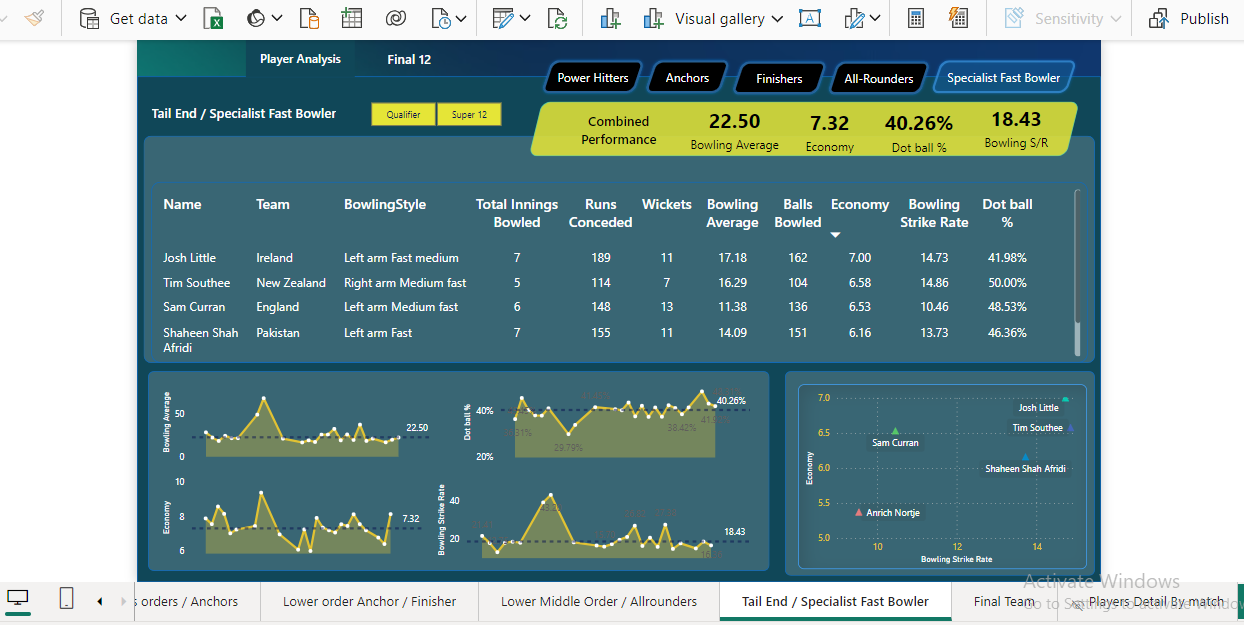

Layout of this report page (visuals, bound fields, positions):
{"tool":"powerbi","page":{"name":"Tail End / Specialist Fast Bowler","canvas":[1280,720],"ordinal":4},"visuals":[{"type":"shape","box":[0,48.5,1279.5,671.5],"z":0},{"type":"shape","box":[32.5,74.8,204.9,43.9],"z":1000},{"type":"actionButton","box":[144.7,0,144.7,48.8],"z":2000},{"type":"actionButton","box":[289.4,0,144.7,48.8],"z":3000},{"type":"actionButton","box":[562.5,22.8,144.7,52],"z":4000},{"type":"actionButton","box":[698.7,22.8,120.3,52],"z":5000},{"type":"actionButton","box":[810.5,22.8,134.9,52],"z":6000},{"type":"actionButton","box":[936.9,22.8,144.7,52],"z":7000},{"type":"actionButton","box":[1073.1,22.8,188.6,52],"z":8000},{"type":"slicer","fields":{"Values":["dim_match_summary.stage"]},"box":[285,76.7,223.3,45],"z":9000},{"type":"shape","box":[8.3,126.7,1263.3,301.7],"z":10000},{"type":"shape","box":[15,440,825,265],"z":11000},{"type":"shape","box":[860,440,411.7,271.7],"z":12000},{"type":"scatterChart","title":"Economy vs Bowling S/R","fields":{"Category":["dim_players.name"],"Series":["dim_players.name"],"Y":["key_measures.Economy"],"X":["key_measures.Bowling Strike Rate"]},"box":[878.3,456.7,383.3,245],"z":13000},{"type":"tableEx","fields":{"Values":["dim_players.name","dim_players.team","dim_players.bowlingStyle","key_measures.Total Innings Bowled","key_measures.Runs Conceded","key_measures.wickets","key_measures.Bowling Average","key_measures.balls Bowled","key_measures.Economy","key_measures.Bowling Strike Rate","key_measures.Dot ball %"]},"box":[18.3,188.3,1243.3,240],"z":14000},{"type":"shape","box":[546.3,81.3,705.6,73.2],"z":15000},{"type":"card","fields":{"Values":["key_measures.Bowling Strike Rate"]},"box":[1095,75,143.3,80],"z":16000},{"type":"card","fields":{"Values":["key_measures.Bowling Average"]},"box":[721.7,76.7,143.3,83.3],"z":17000},{"type":"card","fields":{"Values":["key_measures.Economy"]},"box":[859.4,85,121.7,70],"z":18000},{"type":"card","fields":{"Values":["key_measures.Dot ball %"]},"box":[975.6,86.7,125,68.3],"z":19000},{"type":"shape","box":[558.3,85,163.3,66.7],"z":20000},{"type":"areaChart","fields":{"Y":["key_measures.Bowling Average"],"Category":["dim_match_summary.matchDate.Variation.Date Hierarchy.Day"]},"box":[28.3,446.7,368.3,120],"z":21000},{"type":"areaChart","fields":{"Category":["dim_match_summary.matchDate.Variation.Date Hierarchy.Day"],"Y":["key_measures.Economy"]},"box":[28.3,573.3,356.7,120],"z":22000},{"type":"areaChart","fields":{"Category":["dim_match_summary.matchDate.Variation.Date Hierarchy.Day"],"Y":["key_measures.Dot ball %"]},"box":[428.3,446.7,390,120],"z":23000},{"type":"areaChart","fields":{"Category":["dim_match_summary.matchDate.Variation.Date Hierarchy.Day"],"Y":["key_measures.Bowling Strike Rate"]},"box":[393.3,573.3,425,120],"z":24000}]}

Visuals, with their boxes on the page's 1280x720 design canvas (x1, y1, x2, y2). These are canvas units, not pixel positions in the 1244x625 screenshot, which may show the page scaled, cropped or inside an application window:
shape: <box>0,48,1280,720</box>
shape: <box>32,75,237,119</box>
actionButton: <box>145,0,289,49</box>
actionButton: <box>289,0,434,49</box>
actionButton: <box>562,23,707,75</box>
actionButton: <box>699,23,819,75</box>
actionButton: <box>810,23,945,75</box>
actionButton: <box>937,23,1082,75</box>
actionButton: <box>1073,23,1262,75</box>
slicer - dim_match_summary.stage: <box>285,77,508,122</box>
shape: <box>8,127,1272,428</box>
shape: <box>15,440,840,705</box>
shape: <box>860,440,1272,712</box>
"Economy vs Bowling S/R" scatterChart: <box>878,457,1262,702</box>
tableEx - dim_players.name x dim_players.team: <box>18,188,1262,428</box>
shape: <box>546,81,1252,154</box>
card - key_measures.Bowling Strike Rate: <box>1095,75,1238,155</box>
card - key_measures.Bowling Average: <box>722,77,865,160</box>
card - key_measures.Economy: <box>859,85,981,155</box>
card - key_measures.Dot ball %: <box>976,87,1101,155</box>
shape: <box>558,85,722,152</box>
areaChart - key_measures.Bowling Average x dim_match_summary.matchDate.Variation.Date Hierarchy.Day: <box>28,447,397,567</box>
areaChart - dim_match_summary.matchDate.Variation.Date Hierarchy.Day x key_measures.Economy: <box>28,573,385,693</box>
areaChart - dim_match_summary.matchDate.Variation.Date Hierarchy.Day x key_measures.Dot ball %: <box>428,447,818,567</box>
areaChart - dim_match_summary.matchDate.Variation.Date Hierarchy.Day x key_measures.Bowling Strike Rate: <box>393,573,818,693</box>
